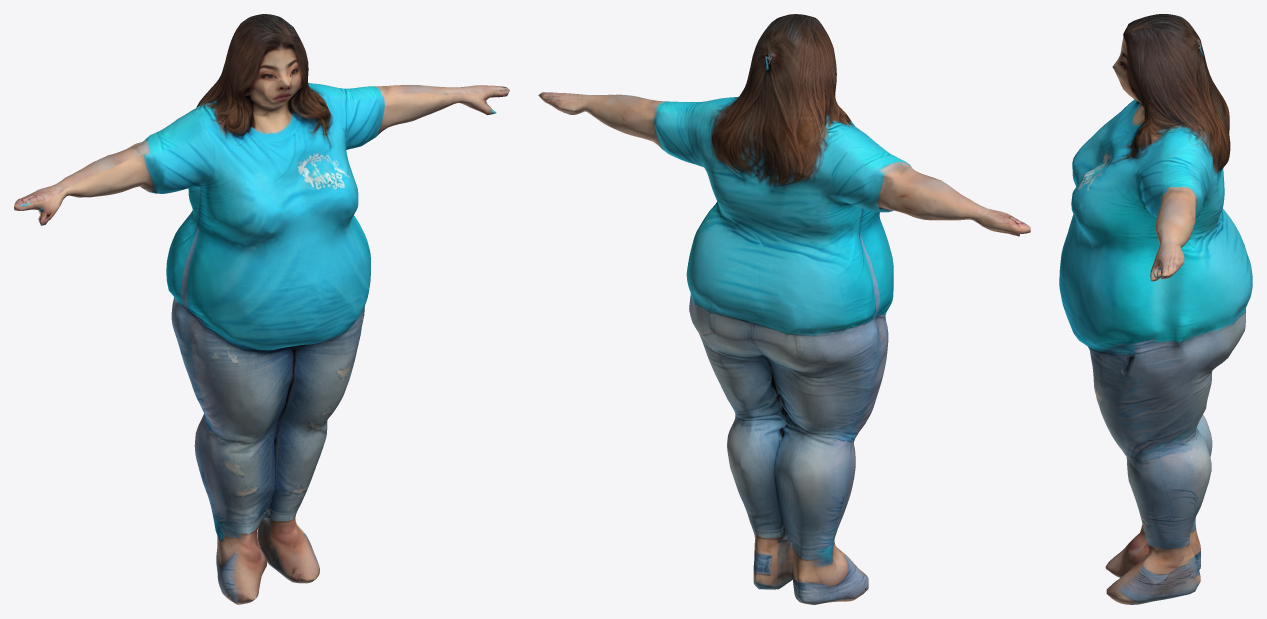
3 renders of one model, left to right at view 1: azimuth 30°, elevation 25°; view 2: azimuth 150°, elevation 25°; view 3: azimuth 270°, elevation 25°, orthographic. The views are drawn at different scales.
Bounding box in the file's own units: 1.09 × 1.2 × 0.3619.
Materials: 1 (1 with a texture image).
